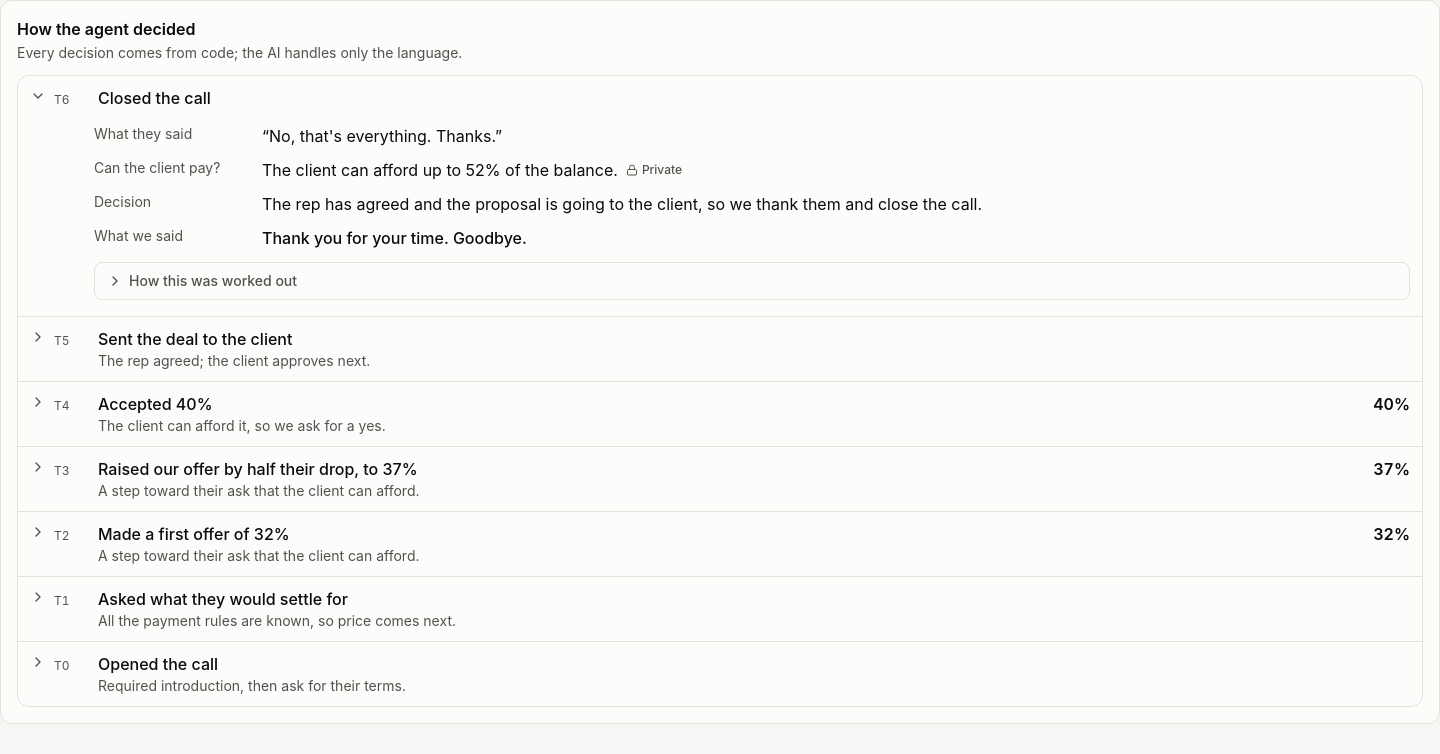
Scenario: DecisionTrace › opens the newest turn by default and toggles rows
Click the button that starts with "Sent the deal to the client". click: {"x": 195, "y": 339}
box: x1=18 y1=317 x2=1422 y2=381
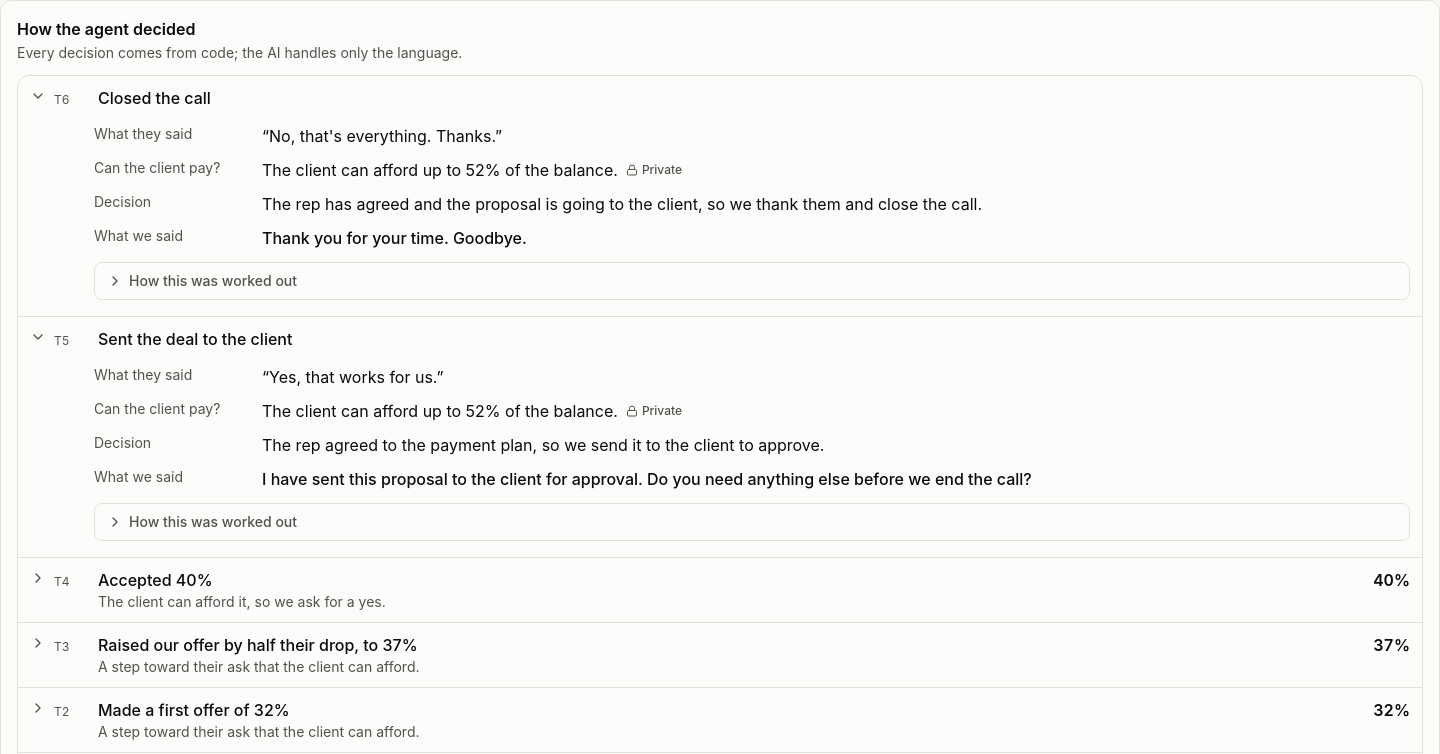
Expected: the button "T5 Sent the deal to the client" is expanded
Expected: the text "What we said" below "Yes, that works for us." is shown, x1=94 y1=468 x2=183 y2=485
Click the button "T5 Sent the deal to the client". click: {"x": 195, "y": 339}
box: x1=18 y1=317 x2=1422 y2=361
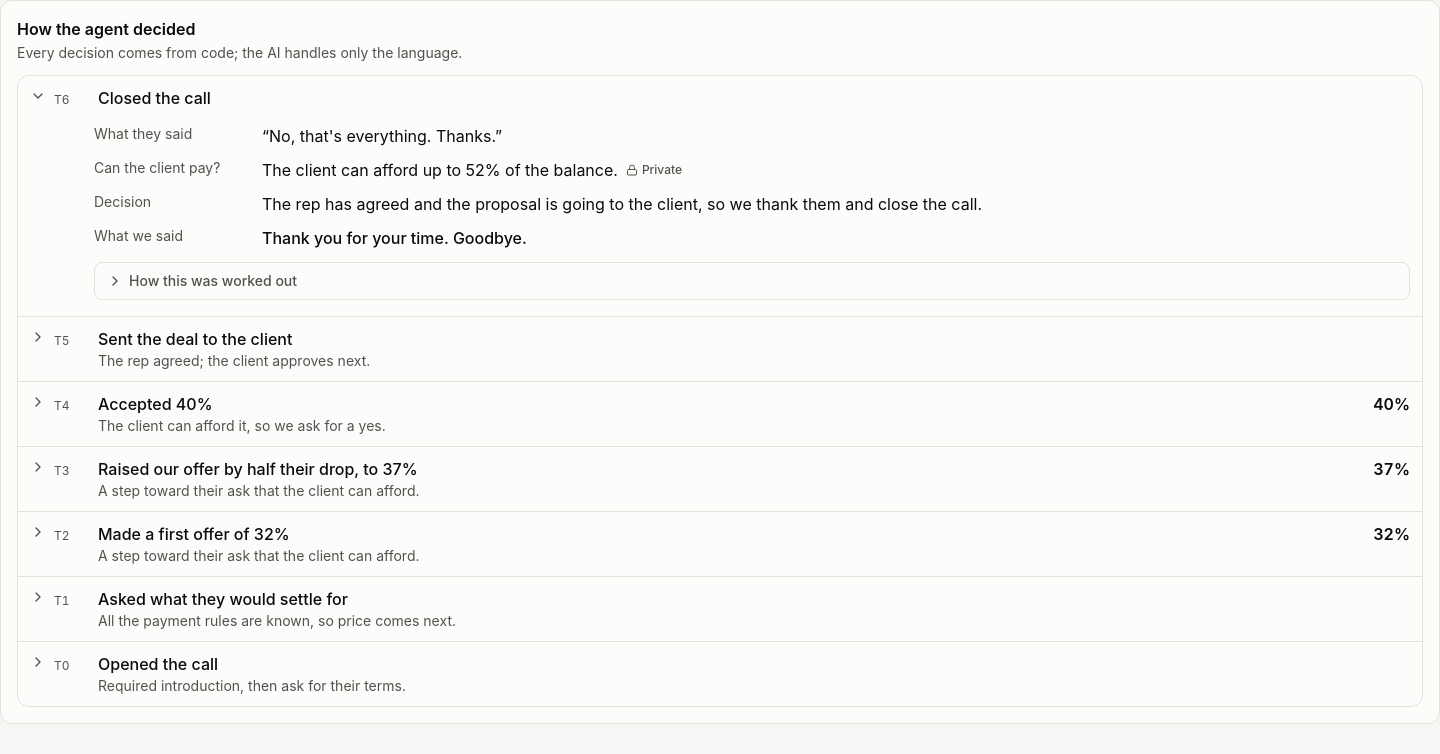
Expected: the button that starts with "Sent the deal to the client" is collapsed, x1=18 y1=317 x2=1422 y2=381
